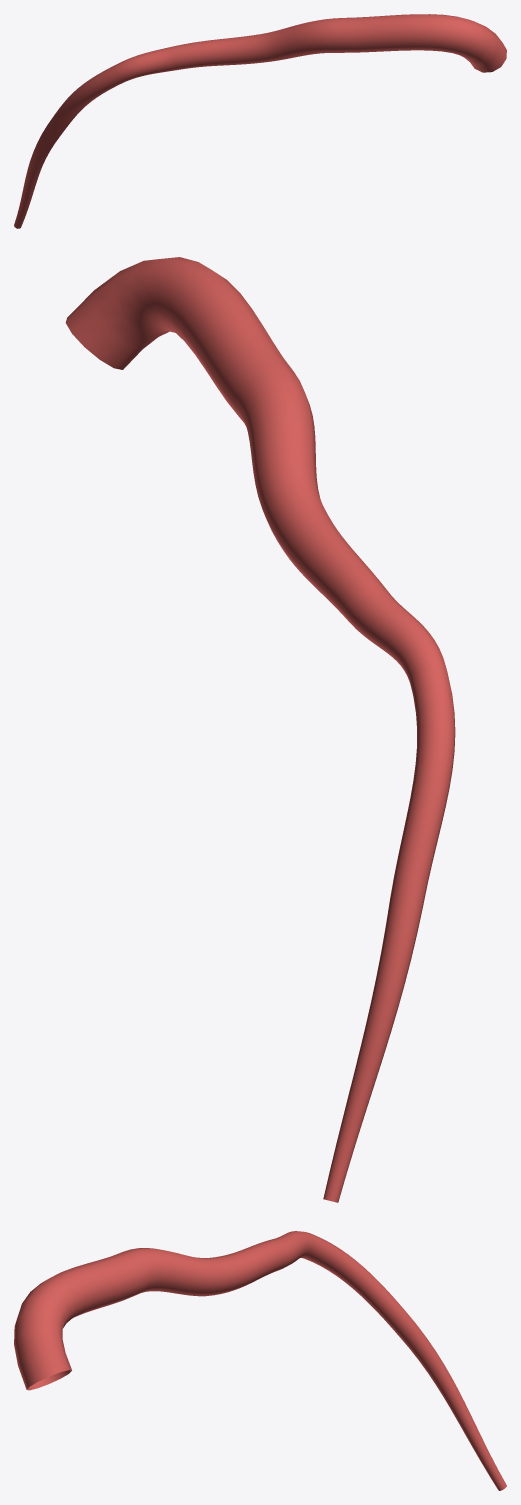
The picture shows the model from 3 angles, top to bottom: view 1: azimuth 30°, elevation 25°; view 2: azimuth 150°, elevation 25°; view 3: azimuth 270°, elevation 25°; orthographic projection. The views are drawn at different scales.
Parts seen in each view (by area): view 1: 右侧膝上外侧动脉; view 2: 右侧膝上外侧动脉; view 3: 右侧膝上外侧动脉.
Boxes of the visible parts, bbox=[...] form: 右侧膝上外侧动脉: bbox=[14, 14, 506, 228]; 右侧膝上外侧动脉: bbox=[65, 257, 455, 1202]; 右侧膝上外侧动脉: bbox=[14, 1231, 506, 1490].
Size of the model in its own units: 0.07 by 0.059 by 0.0732.
